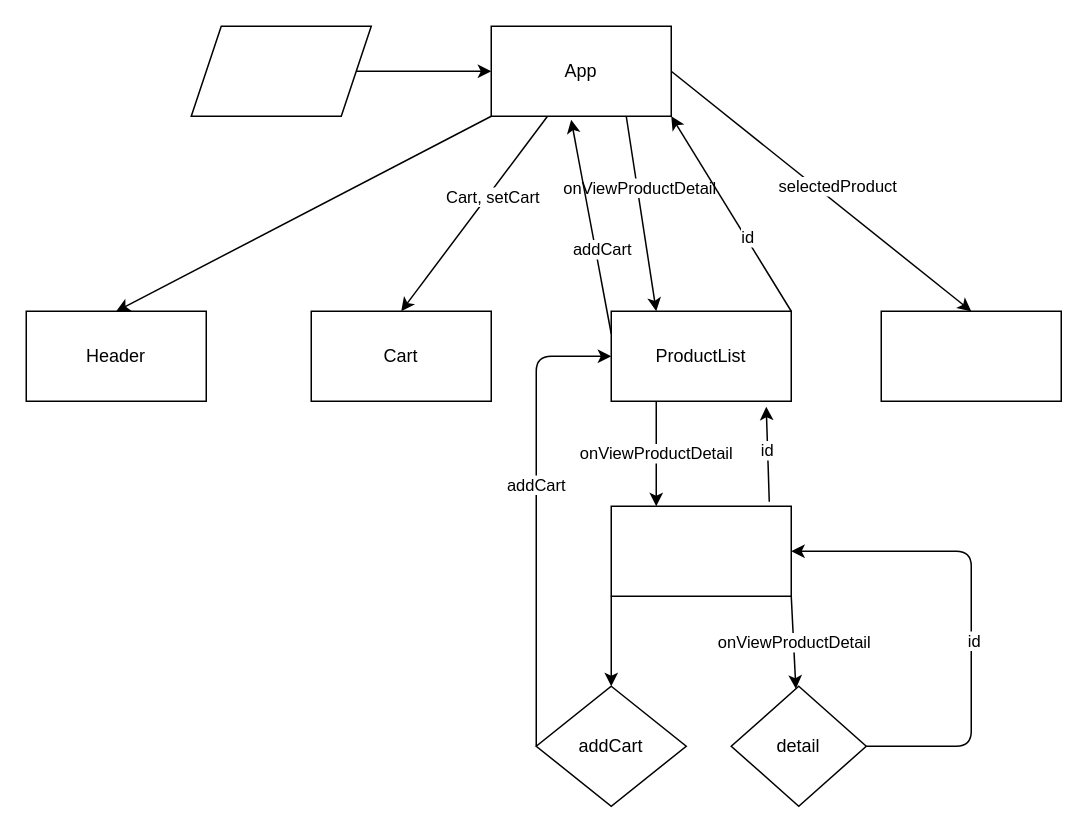
The diagram is 1088 pixels wide and 833 high, and some of its shapes have lost their labels. Each missing label, with the box of its shape:
Product: (610, 505, 791, 596)
productData: (190, 25, 371, 116)
ProductDetail: (880, 310, 1061, 401)
